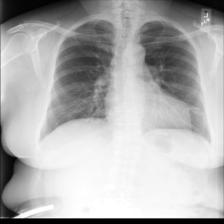normal: (35, 14, 213, 146)
